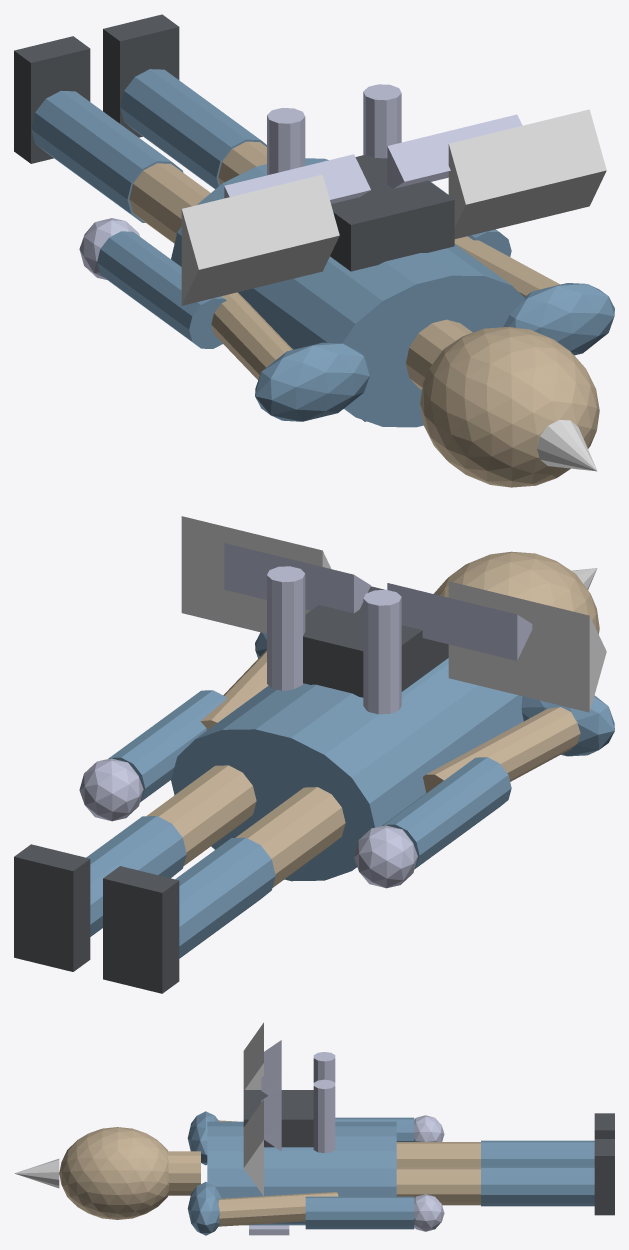
File: SWN-023_nessa_vireo.glb
3 views of the same model, one above another, from view 1: azimuth 30°, elevation 25°; view 2: azimuth 150°, elevation 25°; view 3: azimuth 270°, elevation 25° (orthographic). The views are drawn at different scales.
Parts seen in each view (by area): view 1: body_spine, head, folded_wing_-1, folded_wing_1, back_thruster_pack, greave_-1, greave_1, shoulder_plate_-1, forearm_gauntlet_-1, boot_-1, shoulder_plate_1, boot_1 (+11 smaller); view 2: body_spine, folded_wing_-1, boot_-1, boot_1, folded_wing_1, greave_-1, back_thruster_pack, forearm_gauntlet_-1, zero_g_winglet_-1, head, thigh_1, thigh_-1 (+10 smaller); view 3: body_spine, head, greave_1, forearm_gauntlet_1, greave_-1, thigh_1, upper_arm_1, back_thruster_pack, thigh_-1, aether_thruster_1, boot_1, folded_wing_1 (+13 smaller).
Part boxes in pixels (x1=…): body_spine: x1=171, y1=158, x2=525, y2=427; head: x1=420, y1=326, x2=599, y2=487; folded_wing_-1: x1=181, y1=174, x2=339, y2=305; folded_wing_1: x1=448, y1=109, x2=606, y2=238; back_thruster_pack: x1=330, y1=154, x2=454, y2=271; greave_-1: x1=31, y1=91, x2=183, y2=222; greave_1: x1=120, y1=69, x2=266, y2=189; shoulder_plate_-1: x1=255, y1=342, x2=370, y2=421; forearm_gauntlet_-1: x1=97, y1=231, x2=226, y2=348; boot_-1: x1=14, y1=36, x2=90, y2=163; shoulder_plate_1: x1=503, y1=283, x2=614, y2=355; boot_1: x1=103, y1=14, x2=179, y2=137; body_spine: x1=171, y1=658, x2=523, y2=881; folded_wing_-1: x1=448, y1=581, x2=606, y2=712; boot_-1: x1=103, y1=866, x2=179, y2=993; boot_1: x1=14, y1=844, x2=90, y2=971; folded_wing_1: x1=181, y1=516, x2=331, y2=633; greave_-1: x1=175, y1=837, x2=275, y2=958; back_thruster_pack: x1=303, y1=586, x2=448, y2=697; forearm_gauntlet_-1: x1=382, y1=757, x2=511, y2=869; zero_g_winglet_-1: x1=387, y1=583, x2=532, y2=660; head: x1=434, y1=551, x2=599, y2=633; thigh_1: x1=146, y1=765, x2=256, y2=865; thigh_-1: x1=235, y1=787, x2=345, y2=887; body_spine: x1=207, y1=1121, x2=396, y2=1225; head: x1=59, y1=1127, x2=169, y2=1219; greave_1: x1=481, y1=1166, x2=594, y2=1206; forearm_gauntlet_1: x1=305, y1=1196, x2=414, y2=1229; greave_-1: x1=481, y1=1140, x2=594, y2=1166; thigh_1: x1=396, y1=1167, x2=480, y2=1205; upper_arm_1: x1=218, y1=1192, x2=338, y2=1226; back_thruster_pack: x1=243, y1=1090, x2=313, y2=1147; thigh_-1: x1=396, y1=1142, x2=480, y2=1167; aether_thruster_1: x1=313, y1=1079, x2=335, y2=1153; boot_1: x1=594, y1=1139, x2=614, y2=1215; folded_wing_1: x1=243, y1=1099, x2=263, y2=1196.
Bounding box in the file's own units: 1.1 × 0.6775 × 2.38.
